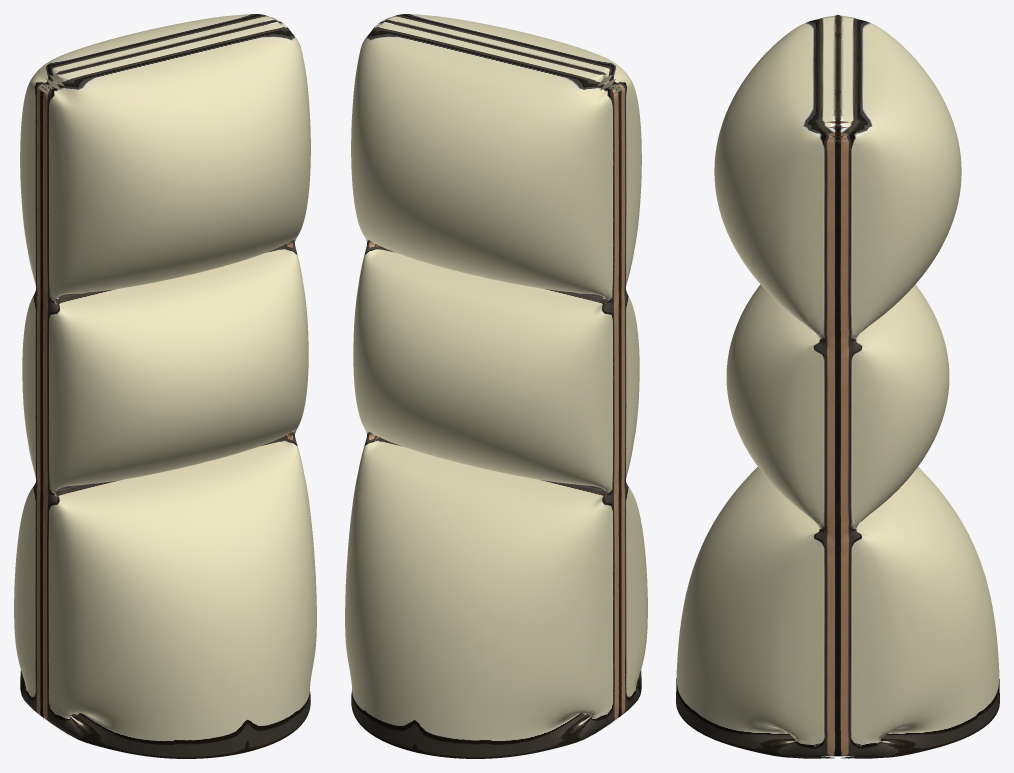
The model's file is rear_wall.glb.
3 renders of one model, left to right at view 1: azimuth 30°, elevation 25°; view 2: azimuth 150°, elevation 25°; view 3: azimuth 270°, elevation 25°, orthographic.
Visible parts, largest first — view 1: rear_wall; view 2: rear_wall; view 3: rear_wall.
Boxes of the visible parts, left/top/right/bottom form: rear_wall: left=14, top=14, right=316, bottom=758; rear_wall: left=345, top=14, right=647, bottom=758; rear_wall: left=676, top=15, right=999, bottom=758.
Size of the model in its own units: 0.9733 by 2.42 by 1.12.
1 material, 1 textured.
